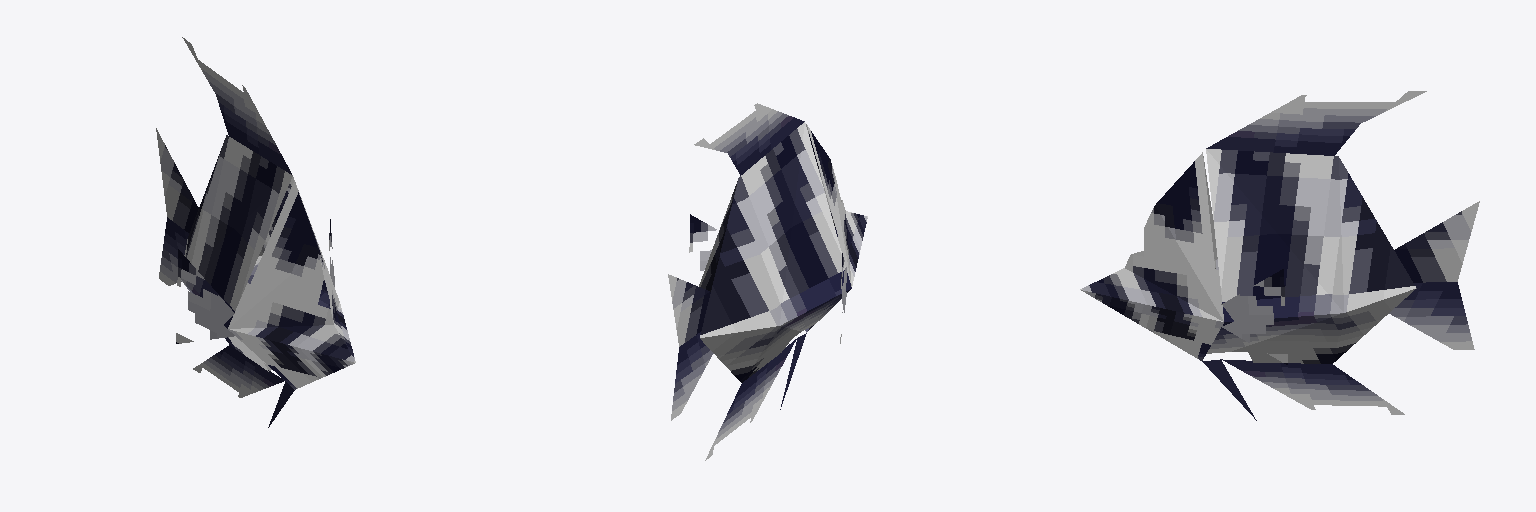
3 renders of one model, left to right at view 1: azimuth 30°, elevation 25°; view 2: azimuth 150°, elevation 25°; view 3: azimuth 270°, elevation 25°, orthographic.
Parts seen in each view (by area): view 1: skl_root, fin; view 2: skl_root, fin; view 3: skl_root, fin.
Boxes of the visible parts, <box> form: skl_root: <box>156,37,355,427</box>; fin: <box>159,217,261,285</box>; skl_root: <box>668,103,867,460</box>; fin: <box>671,332,713,420</box>; skl_root: <box>1080,91,1479,420</box>; fin: <box>1333,282,1474,362</box>.
Size of the model in its own units: 6.05 by 12.6 by 13.82.
Materials: 1 (1 with a texture image).